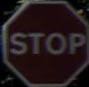Stop: (3, 13, 84, 70)
